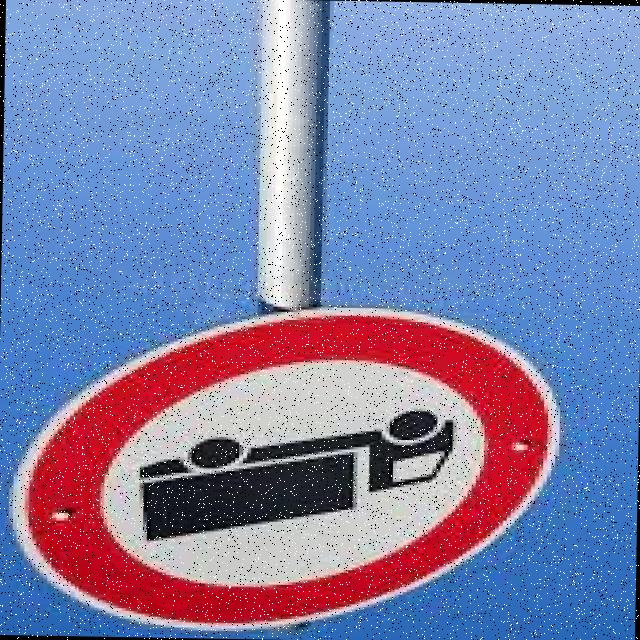do_not_enter: (0, 290, 589, 640)
